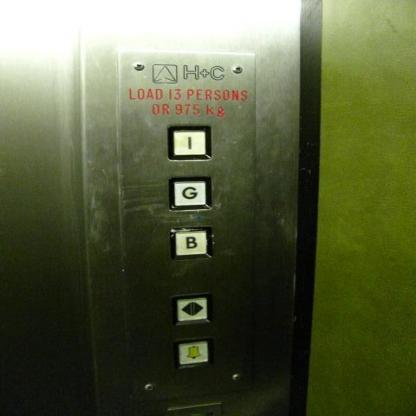1: (166, 124, 210, 160)
B: (169, 226, 213, 260)
G: (166, 176, 210, 211)
alarm: (173, 336, 211, 370)
open: (170, 292, 210, 325)
